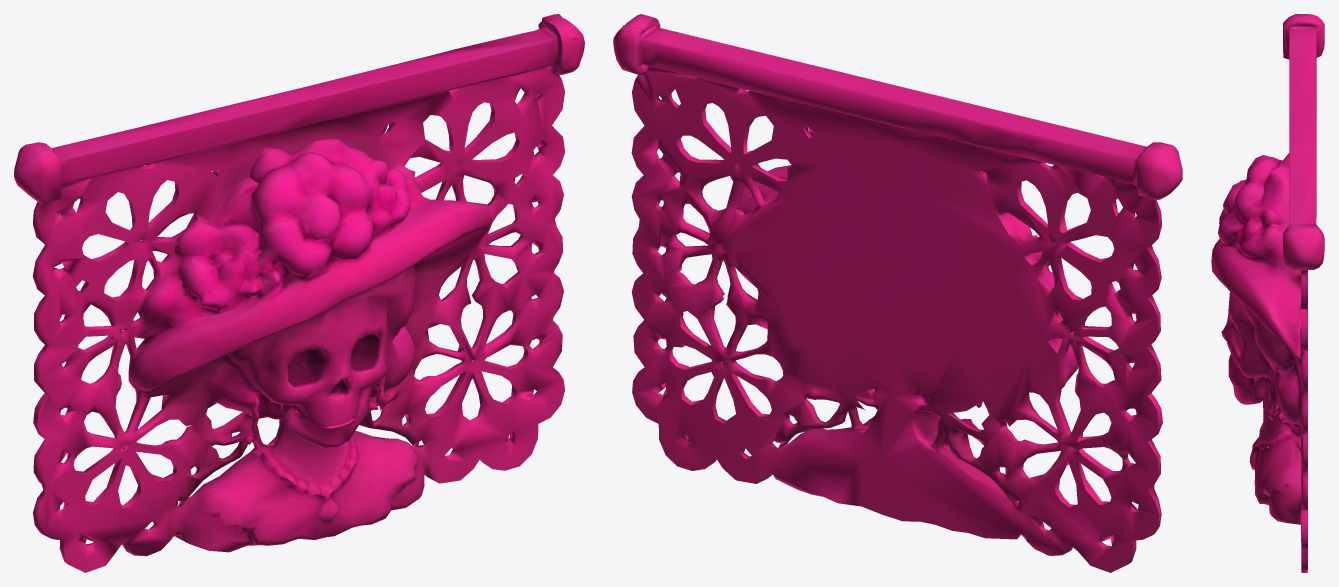
The model's file is papel-picado-catrina.glb.
3 views of the same model, side by side, from view 1: azimuth 30°, elevation 25°; view 2: azimuth 150°, elevation 25°; view 3: azimuth 270°, elevation 25° (orthographic). The views are drawn at different scales.
Parts seen in each view (by area): view 1: Mesh_0; view 2: Mesh_0; view 3: Mesh_0.
Part boxes in pixels (x1,y1,x2,y2): Mesh_0: (14, 14, 584, 572); Mesh_0: (613, 14, 1182, 572); Mesh_0: (1211, 14, 1324, 572).
Bounding box in the file's own units: 1.9 × 1.4 × 0.3953.
1 material, 1 textured.
